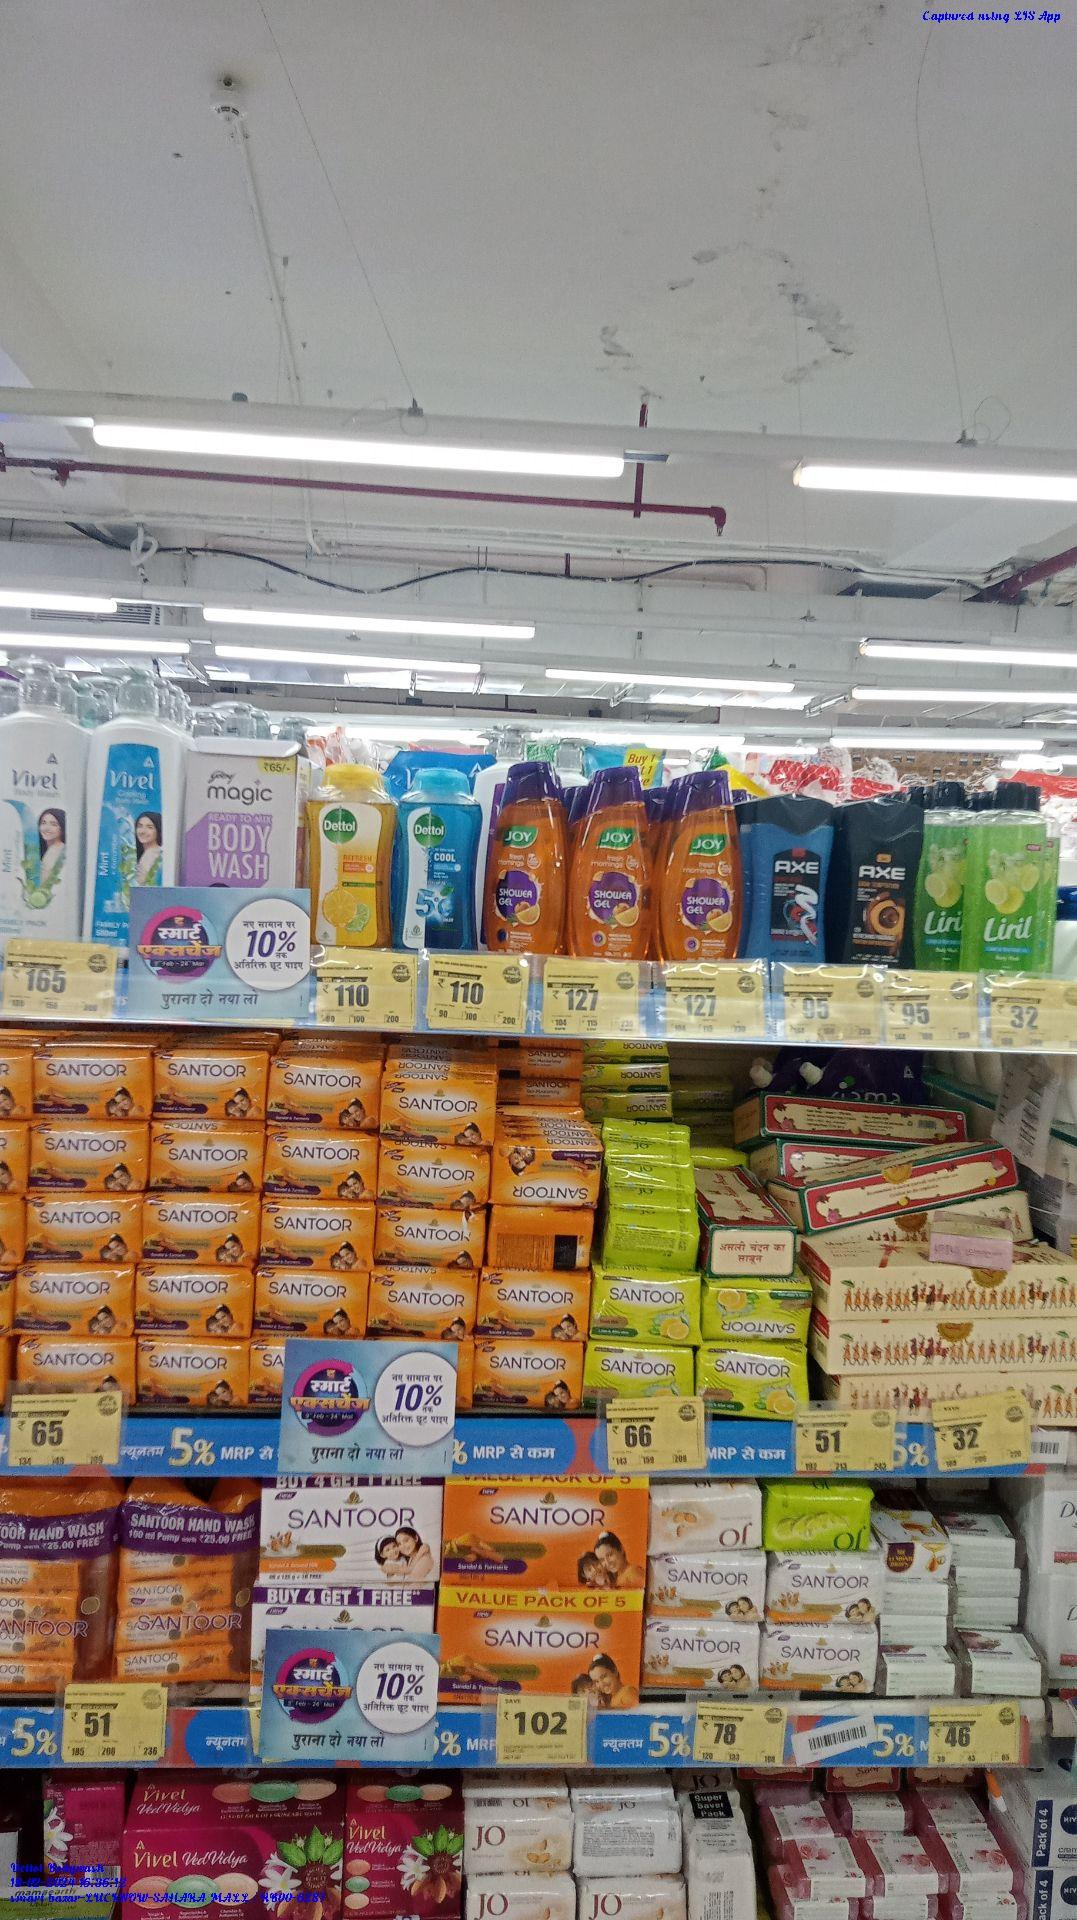Dettol_Bodywash_Cool: (395, 767, 473, 949)
Dettol_Bodywash_Refresh: (311, 762, 388, 948)
Joy_Shower_Gel_Mandarin_and_Lemongrass_250ML: (486, 761, 569, 955), (576, 765, 654, 960), (662, 770, 741, 959)
Liril_Lime_and_Tea_Tree_Oil_Body_Wash_250ML: (964, 775, 1040, 973)
